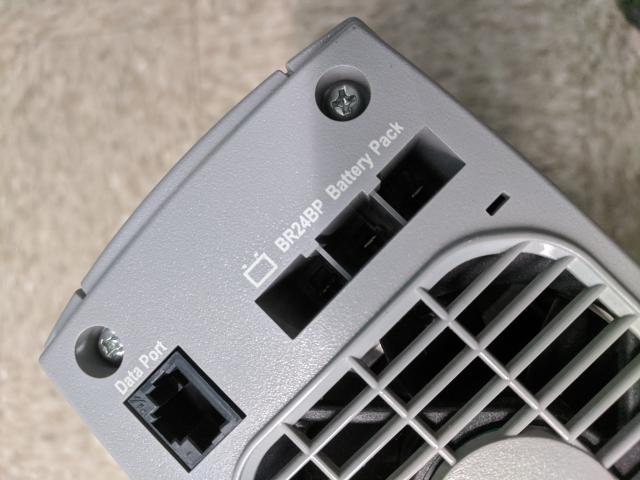CRS: (317, 74, 368, 120), (95, 325, 128, 363)
